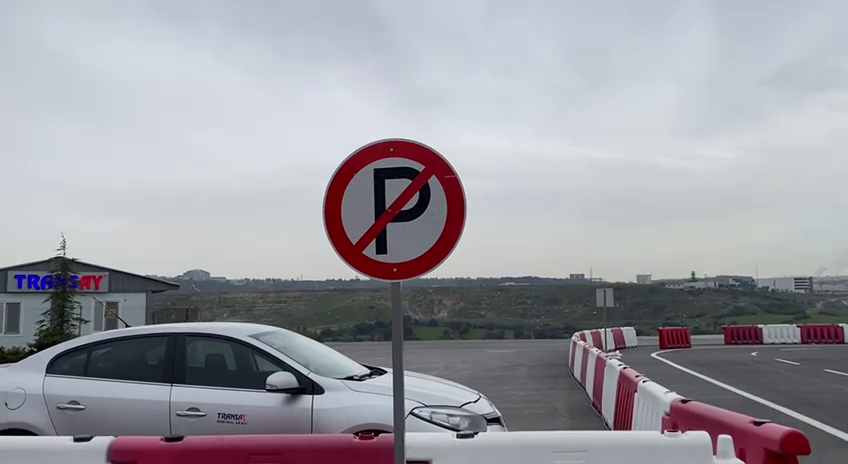noparking: (317, 136, 470, 285)
